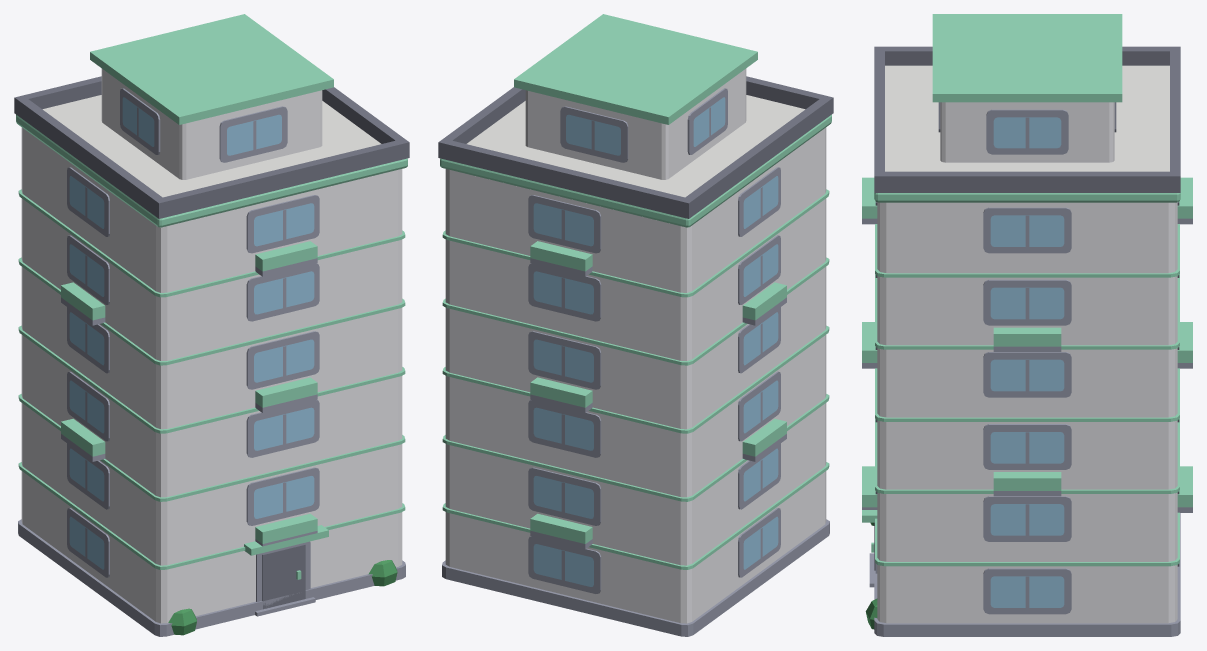
Rendered from tower-1x1-6f-tone-a.glb.
The picture shows the model from 3 angles, left to right: view 1: azimuth 30°, elevation 25°; view 2: azimuth 150°, elevation 25°; view 3: azimuth 270°, elevation 25°; orthographic projection. The views are drawn at different scales.
Visible parts, largest first — view 1: tower-1x1-6f-tone-a; view 2: tower-1x1-6f-tone-a; view 3: tower-1x1-6f-tone-a.
Boxes of the visible parts, box(x1,y1,x2,y2) form: tower-1x1-6f-tone-a: box(14, 14, 409, 636); tower-1x1-6f-tone-a: box(438, 14, 833, 636); tower-1x1-6f-tone-a: box(862, 14, 1192, 636).
Size of the model in its own units: 1.08 by 1.87 by 1.08.
Materials: 1 (1 with a texture image).
